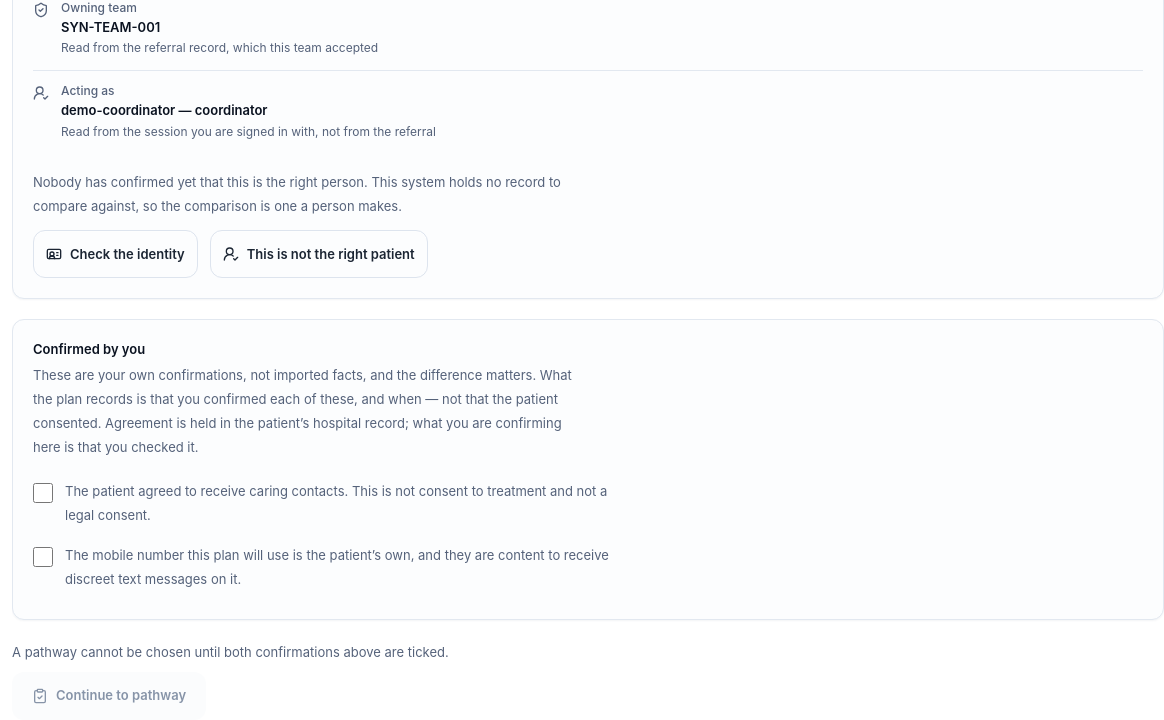
Scenario: the caring-contacts plan wizard — stage 1, agreement (Ruling [112]) › says what the plan will record about the confirmations, and what it will not
(page scrolled)
Click the 1st checkbox.
click(43, 492)  # box [33,482,53,502]
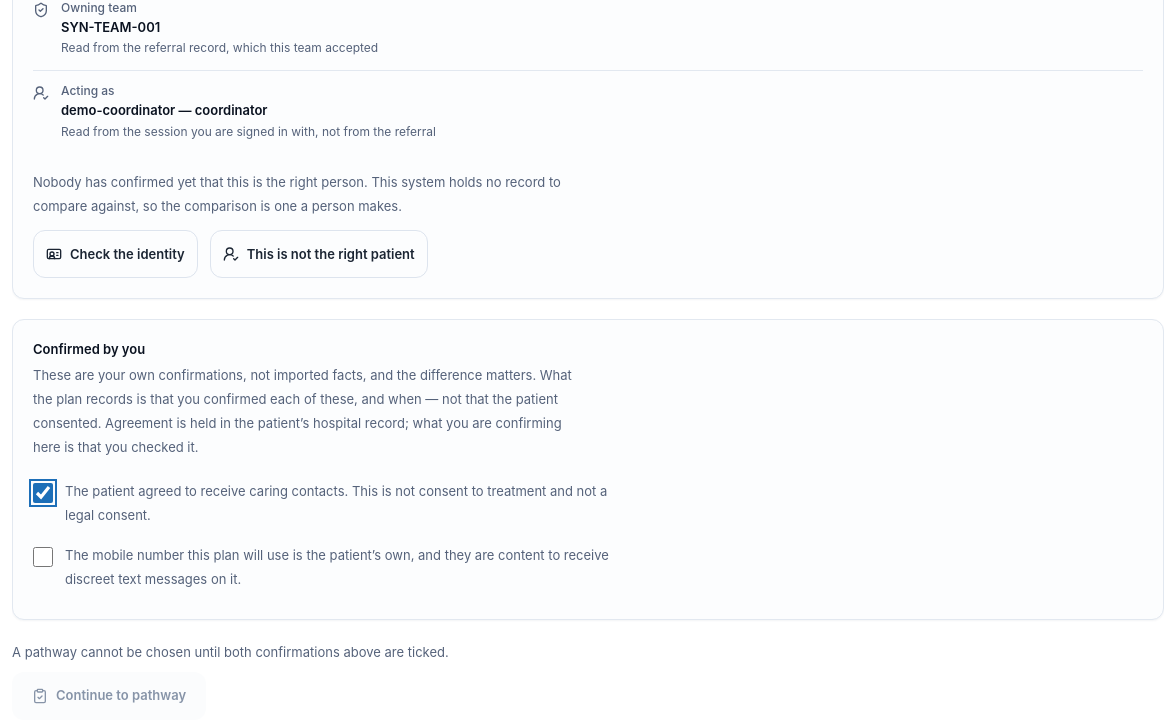
Click the 2nd checkbox.
click(43, 556)  # box [33,546,53,566]
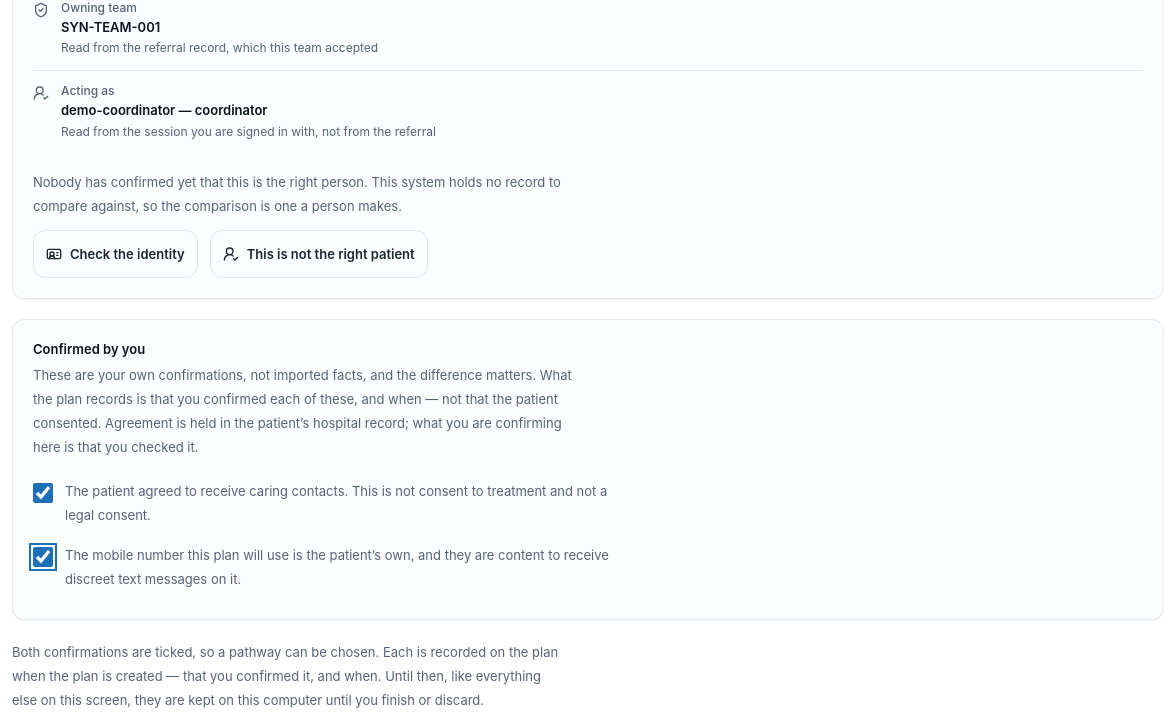
Expected: the text "Both confirmations are ticked, so a pathway can be chosen. Each is recorded on the plan when the plan is created — that you confirmed it, and when. Until then," is shown, [12,644,558,708]
